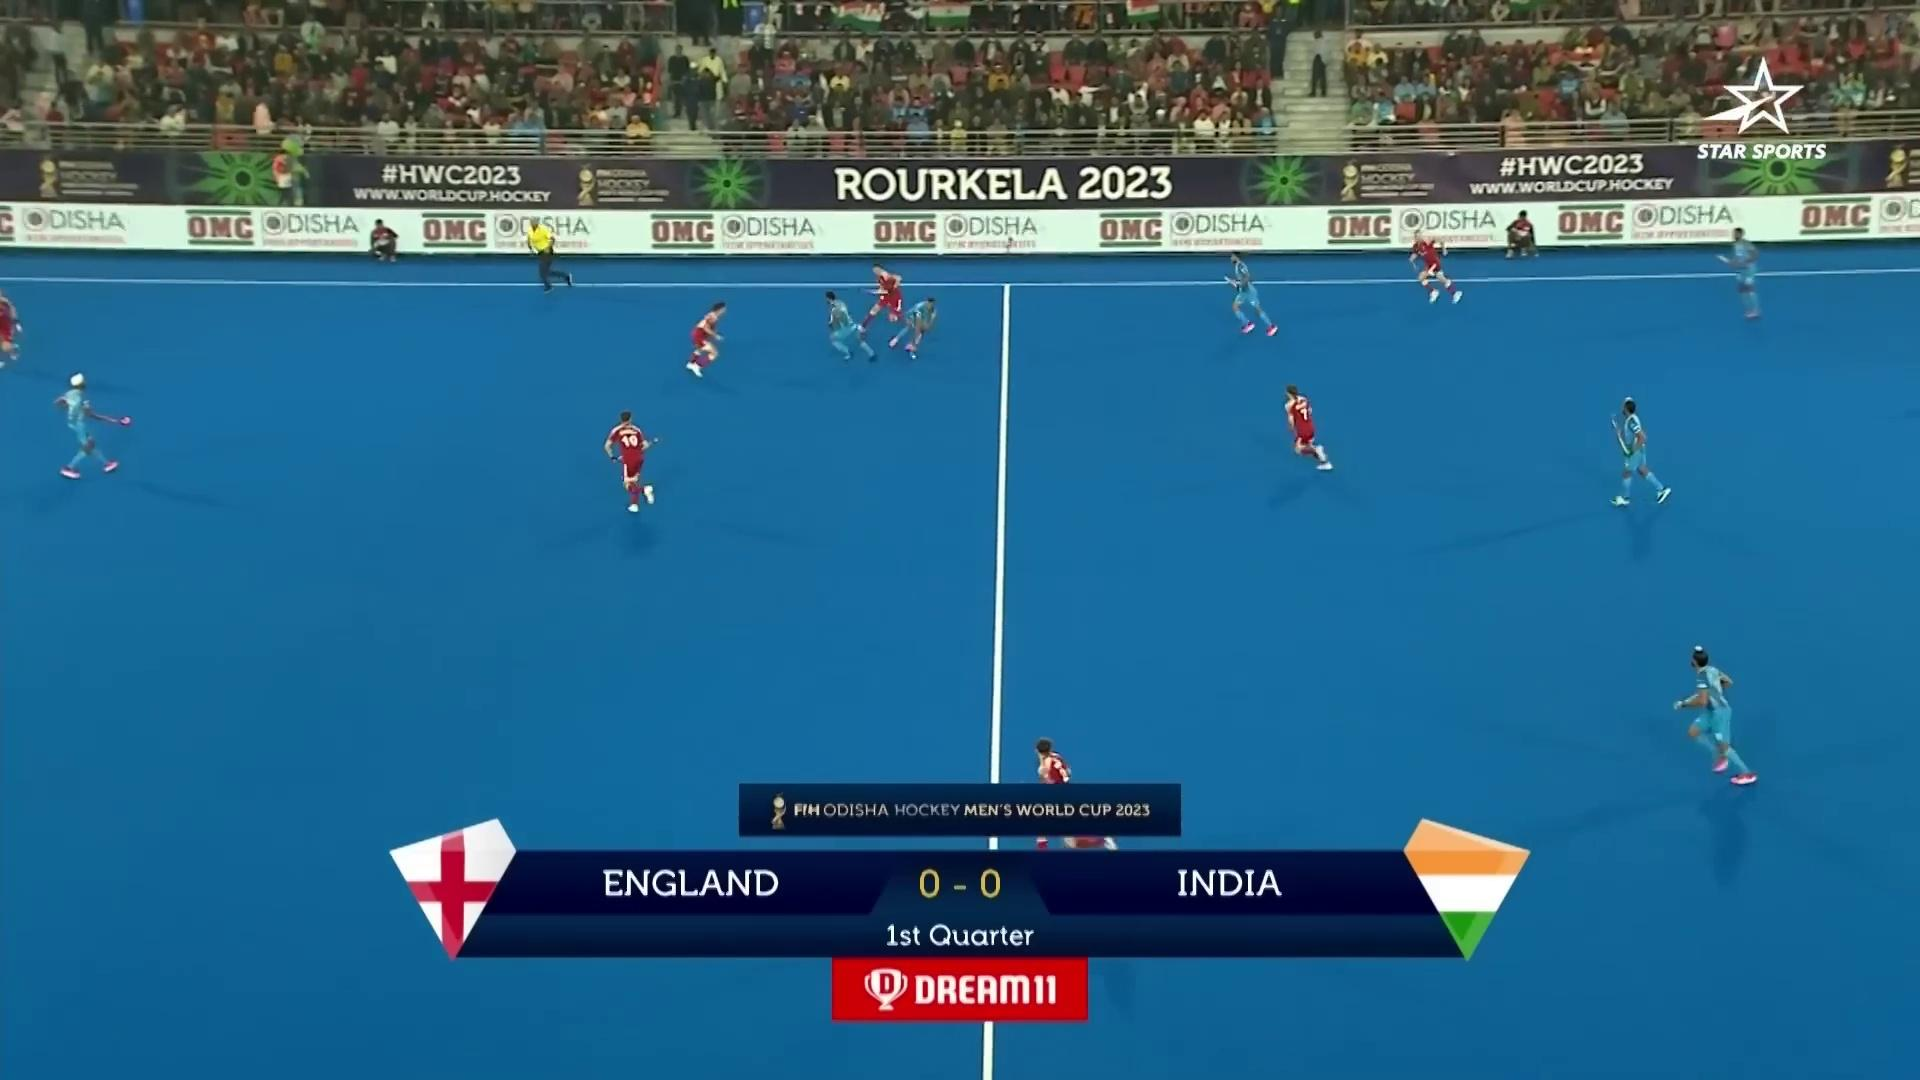ball: (906, 350, 923, 364)
